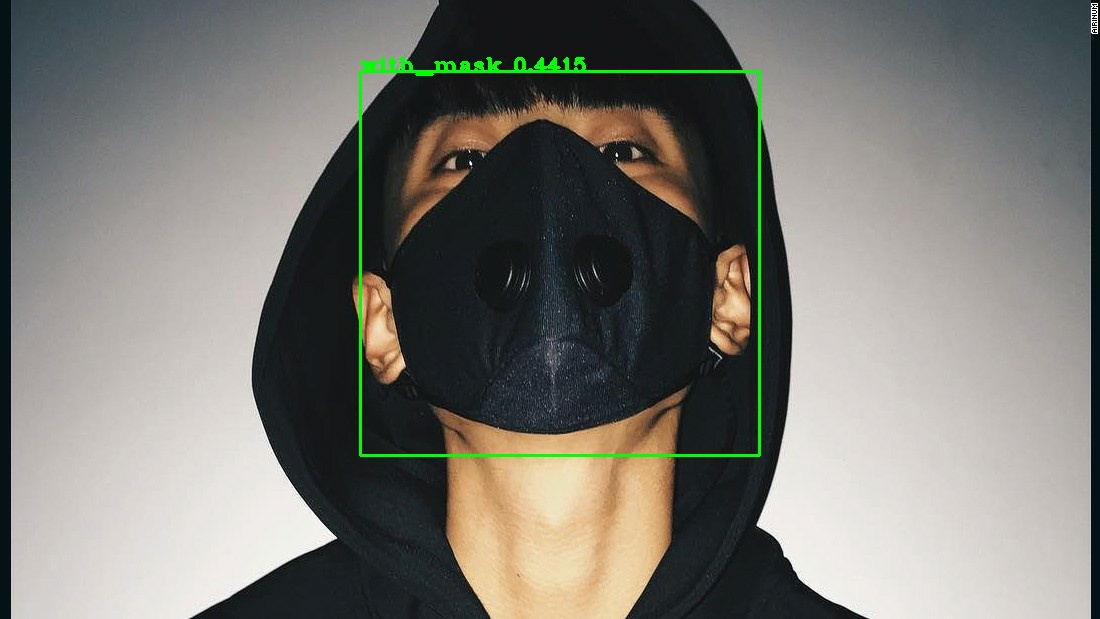with_mask: (363, 77, 758, 459)
